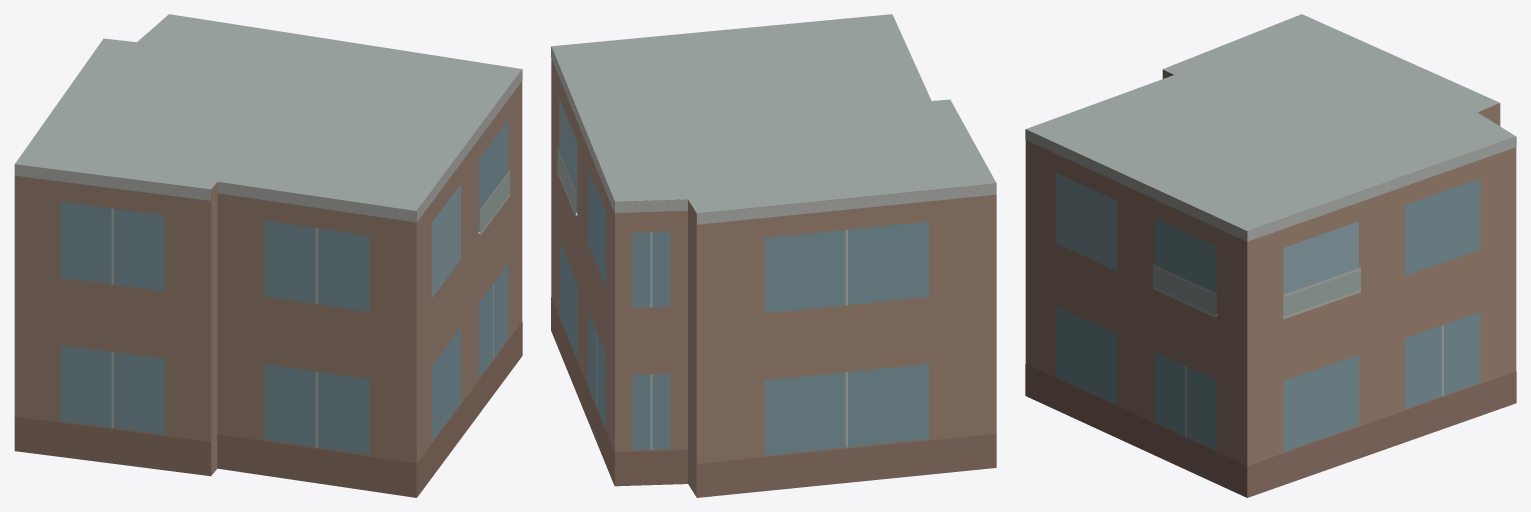
File: survey-upis-32465333.glb
3 views of the same model, side by side, from view 1: azimuth 30°, elevation 25°; view 2: azimuth 150°, elevation 25°; view 3: azimuth 270°, elevation 25° (orthographic). The views are drawn at different scales.
Visible parts, largest first — view 1: survey-upis-32465333.tmp; view 2: survey-upis-32465333.tmp; view 3: survey-upis-32465333.tmp.
Part boxes in pixels (bbox=[...]): survey-upis-32465333.tmp: bbox=[14, 14, 522, 497]; survey-upis-32465333.tmp: bbox=[551, 14, 996, 497]; survey-upis-32465333.tmp: bbox=[1025, 14, 1516, 497].
Size of the model in its own units: 10.66 by 6.1 by 10.18.
